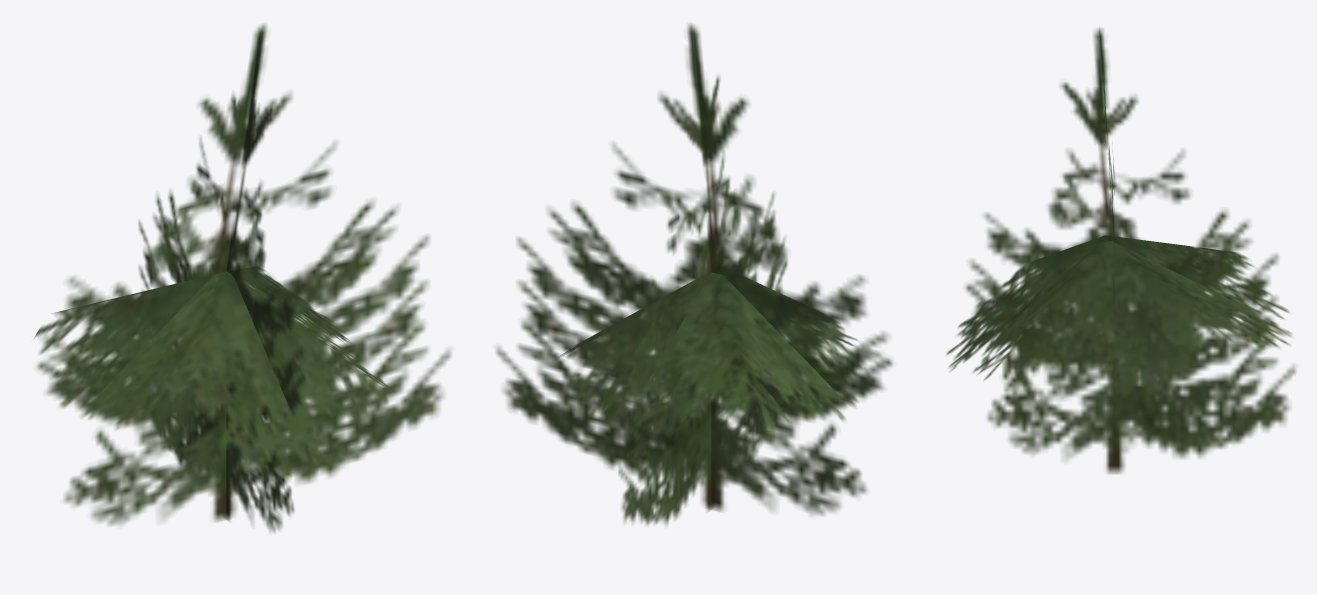
Rendered from distant-tree-11.glb.
3 renders of one model, left to right at view 1: azimuth 30°, elevation 25°; view 2: azimuth 150°, elevation 25°; view 3: azimuth 270°, elevation 25°, orthographic. The views are drawn at different scales.
Parts seen in each view (by area): view 1: Background_Tree_Atlas.011; view 2: Background_Tree_Atlas.011; view 3: Background_Tree_Atlas.011.
Boxes of the visible parts, box(x1,y1,x2,y2) form: Background_Tree_Atlas.011: box(34, 23, 451, 532); Background_Tree_Atlas.011: box(496, 23, 892, 525); Background_Tree_Atlas.011: box(946, 27, 1295, 473).
Bounding box in the file's own units: 183 × 204 × 142.
Materials: 1 (1 with a texture image).
